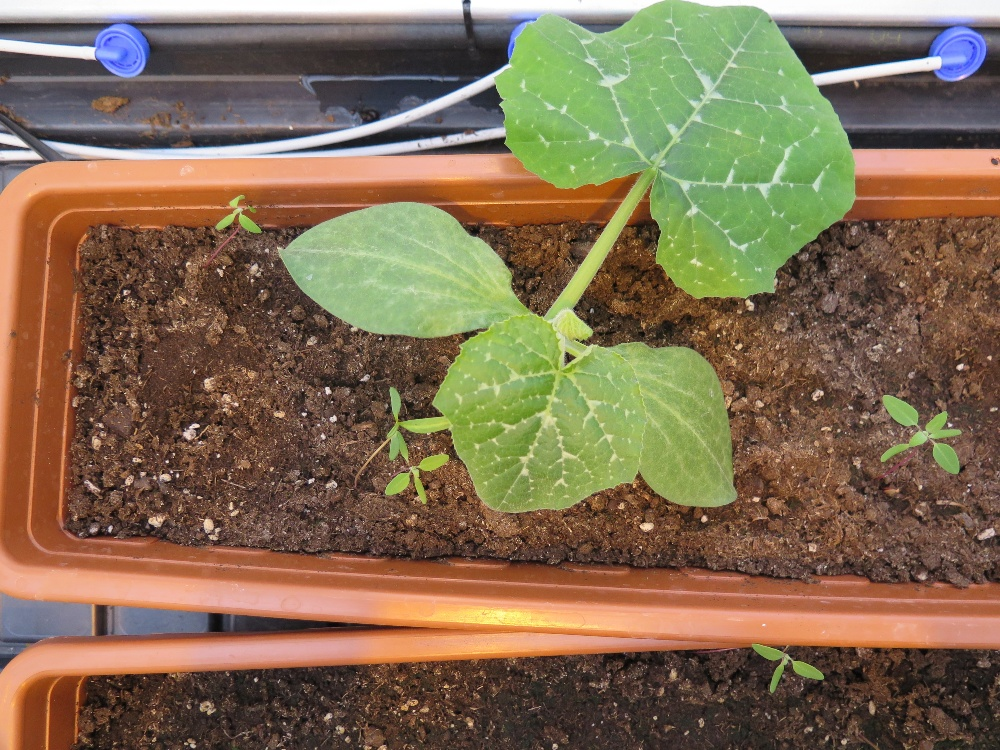crop: (266, 1, 869, 519)
weed: (878, 392, 965, 476), (376, 385, 458, 459), (379, 446, 453, 513), (750, 642, 825, 698), (213, 191, 263, 234)
